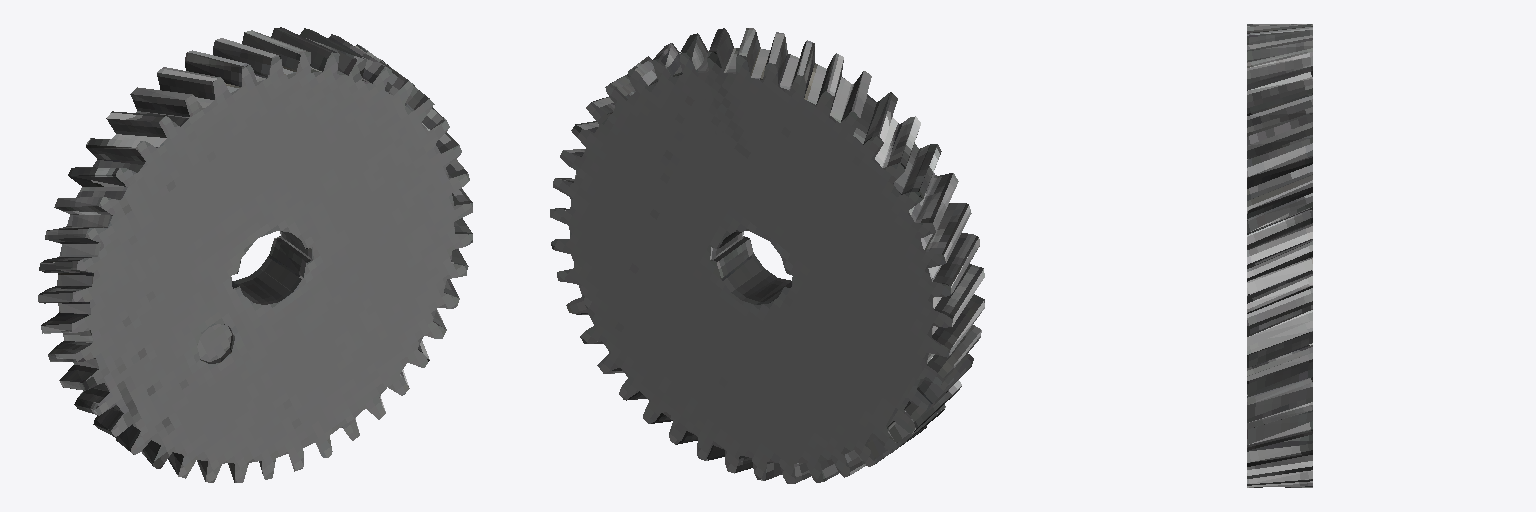
The picture shows the model from 3 angles: view 1: azimuth 30°, elevation 25°; view 2: azimuth 150°, elevation 25°; view 3: azimuth 270°, elevation 25°; orthographic projection.
Visible parts, largest first — view 1: Piñon.024_Mesh.1326; view 2: Piñon.024_Mesh.1326; view 3: Piñon.024_Mesh.1326.
Boxes of the visible parts, x1=… form: Piñon.024_Mesh.1326: x1=38, y1=27, x2=472, y2=482; Piñon.024_Mesh.1326: x1=550, y1=28, x2=984, y2=483; Piñon.024_Mesh.1326: x1=1247, y1=24, x2=1312, y2=487.
Bounding box in the file's own units: 0.0913 × 0.0913 × 0.0131.
1 materials, 1 textured.